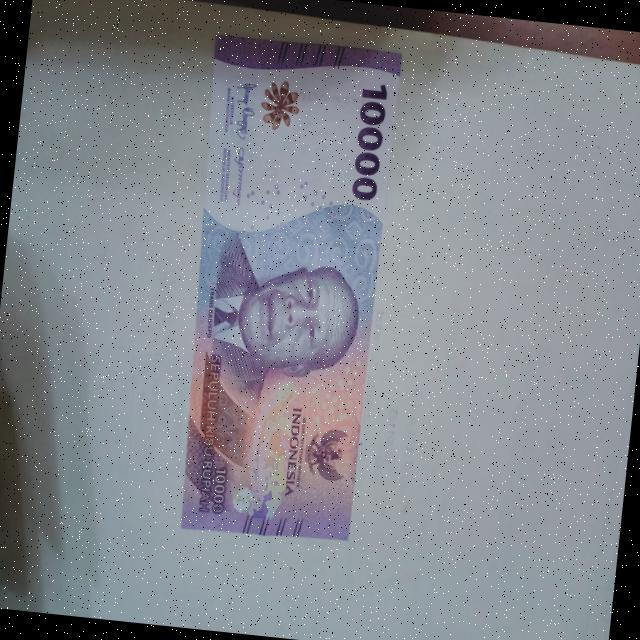10K: (152, 20, 414, 552)
